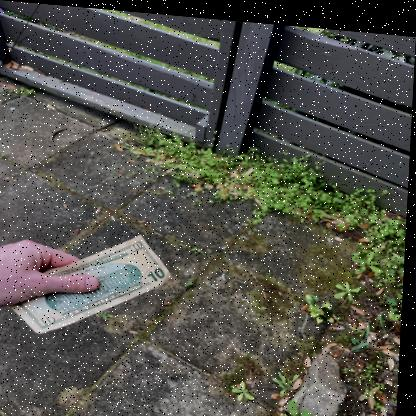ten-back: (7, 233, 170, 335)
